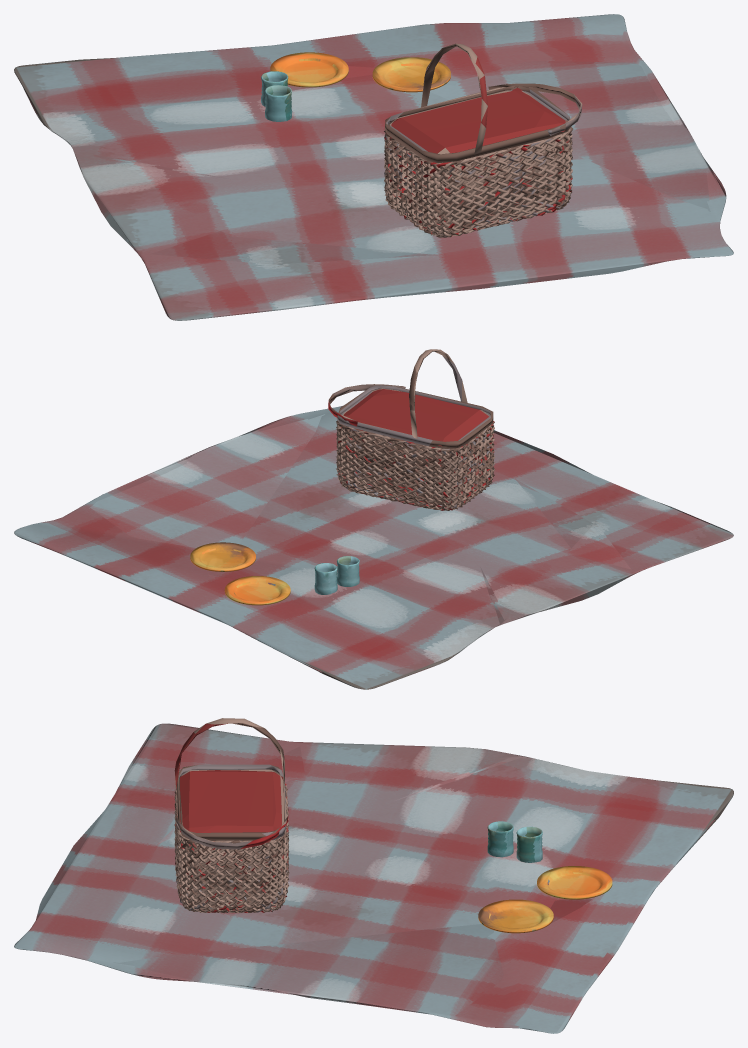
File: LO_picnic.glb
The picture shows the model from 3 angles, top to bottom: view 1: azimuth 30°, elevation 25°; view 2: azimuth 150°, elevation 25°; view 3: azimuth 270°, elevation 25°; orthographic projection. The views are drawn at different scales.
Parts seen in each view (by area): view 1: cloth, Plane, plate, plate.001, cup; view 2: cloth, Plane, plate.001, plate, cup; view 3: cloth, Plane, plate.001, plate, cup.
Boxes of the visible parts, x1,y1,x2,y2 form: cloth: (14, 14, 733, 320); Plane: (384, 43, 582, 237); plate: (270, 52, 348, 87); plate.001: (372, 57, 450, 92); cup: (261, 71, 292, 121); cloth: (14, 406, 733, 689); Plane: (328, 349, 494, 510); plate.001: (190, 542, 255, 571); plate: (224, 576, 290, 605); cup: (314, 556, 359, 594); cloth: (14, 723, 733, 1033); Plane: (174, 718, 289, 913); plate.001: (478, 899, 553, 933); plate: (537, 866, 612, 899); cup: (487, 821, 542, 862).
Bounding box in the file's own units: 2.86 × 0.7285 × 2.84.
Materials: 2 (2 with a texture image).
